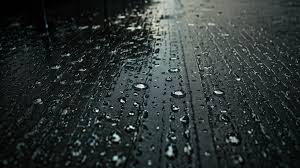Wet-floor: (2, 2, 300, 164)
